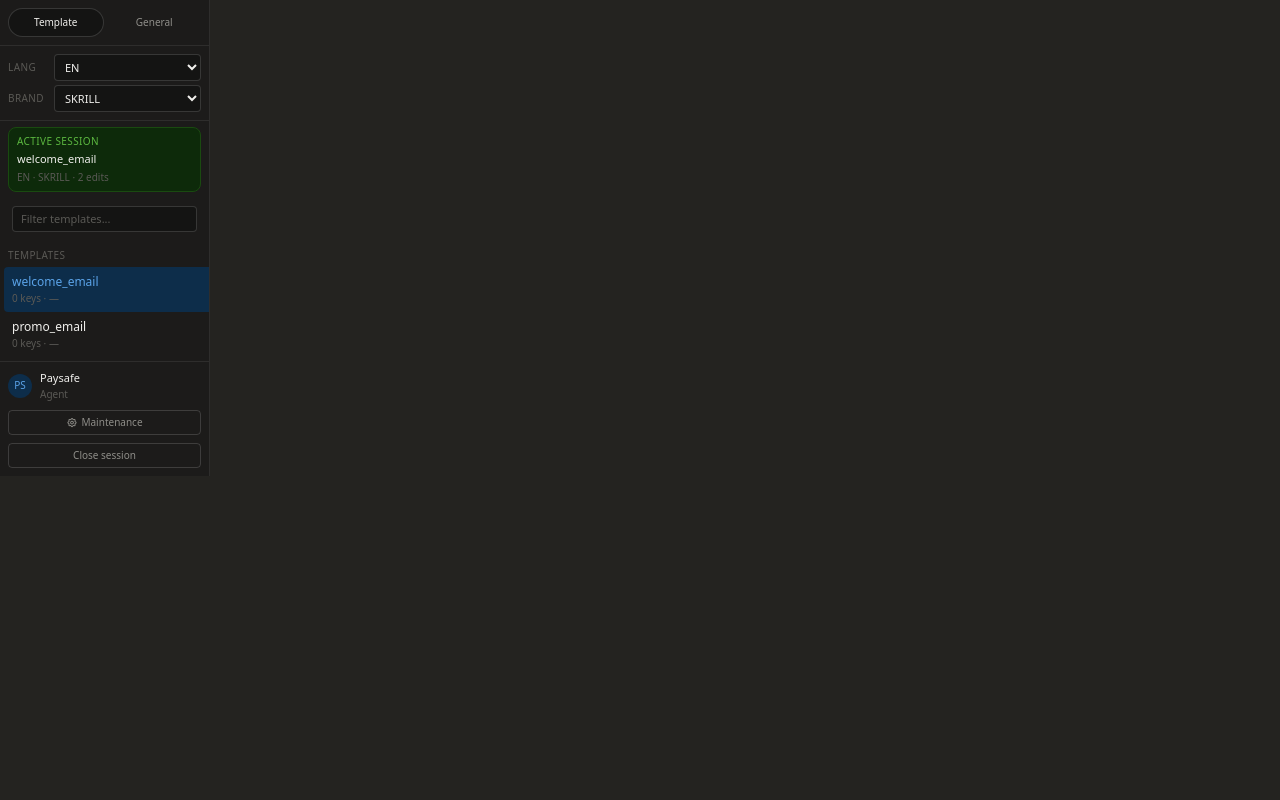
Test: lang/brand guard › prompts for confirmation when a session is active
The width and height of the screenshot is (1280, 800).
Select "FR" in the dropdown showing "EN" next to "Lang": (128, 68) x1=54 y1=54 x2=201 y2=81
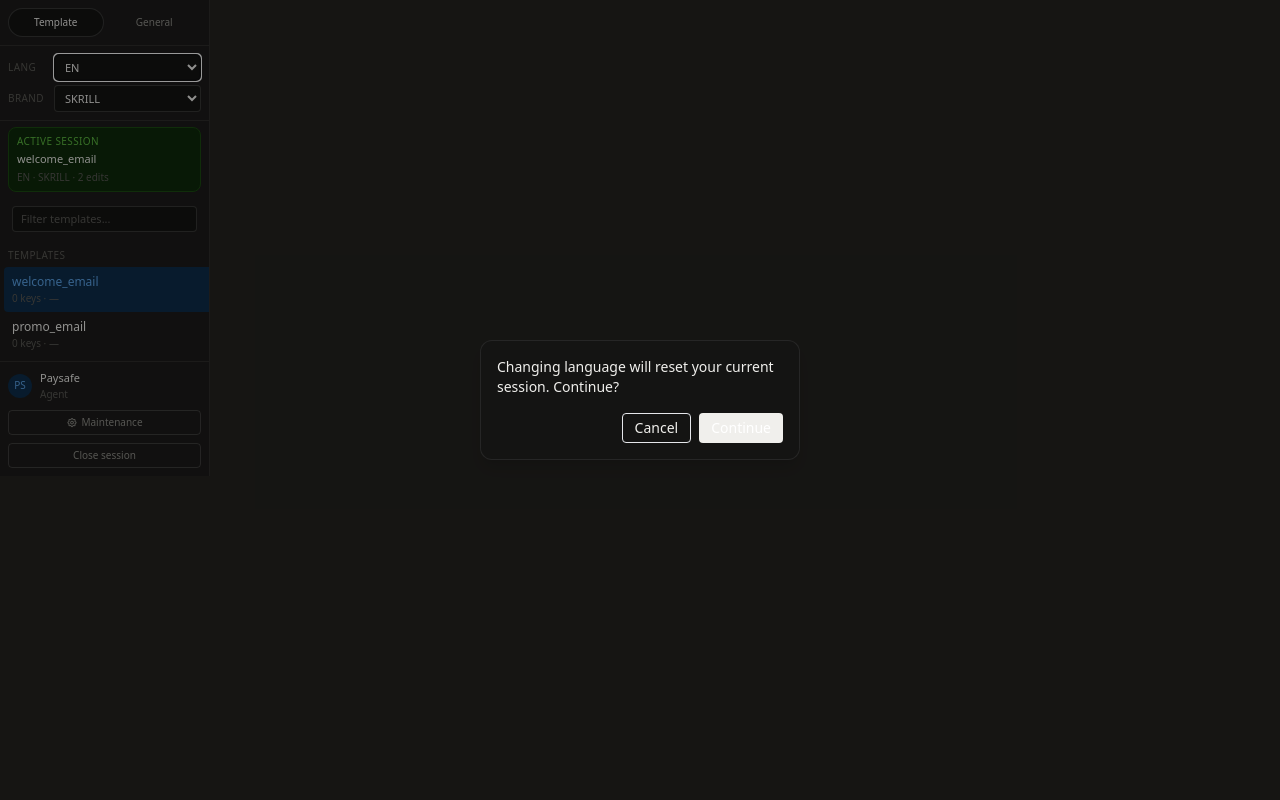
Check: the text "Changing language will reset your current session. Continue?" is shown, box x1=497 y1=357 x2=783 y2=397
